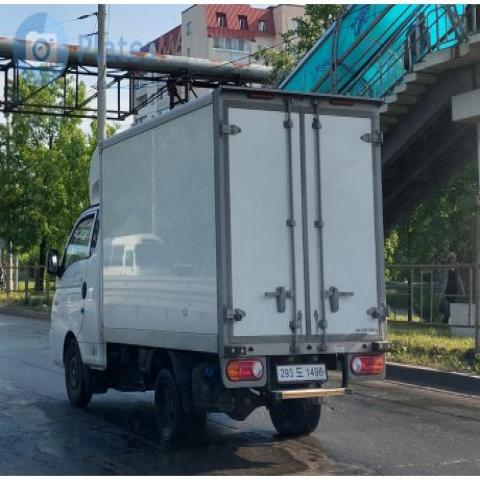LP: (273, 358, 329, 389)
